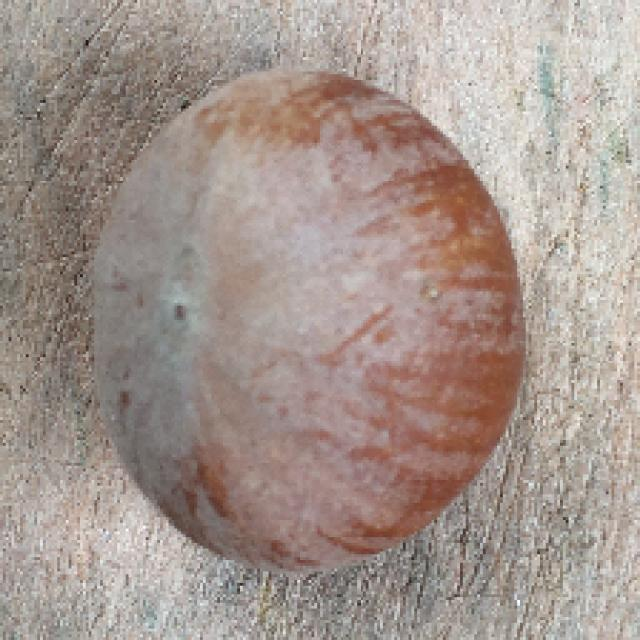qualityHazelnut: (81, 71, 528, 584)
